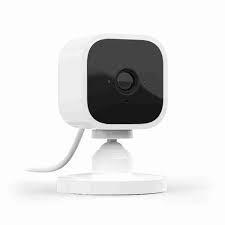tutu: (56, 33, 169, 140)
